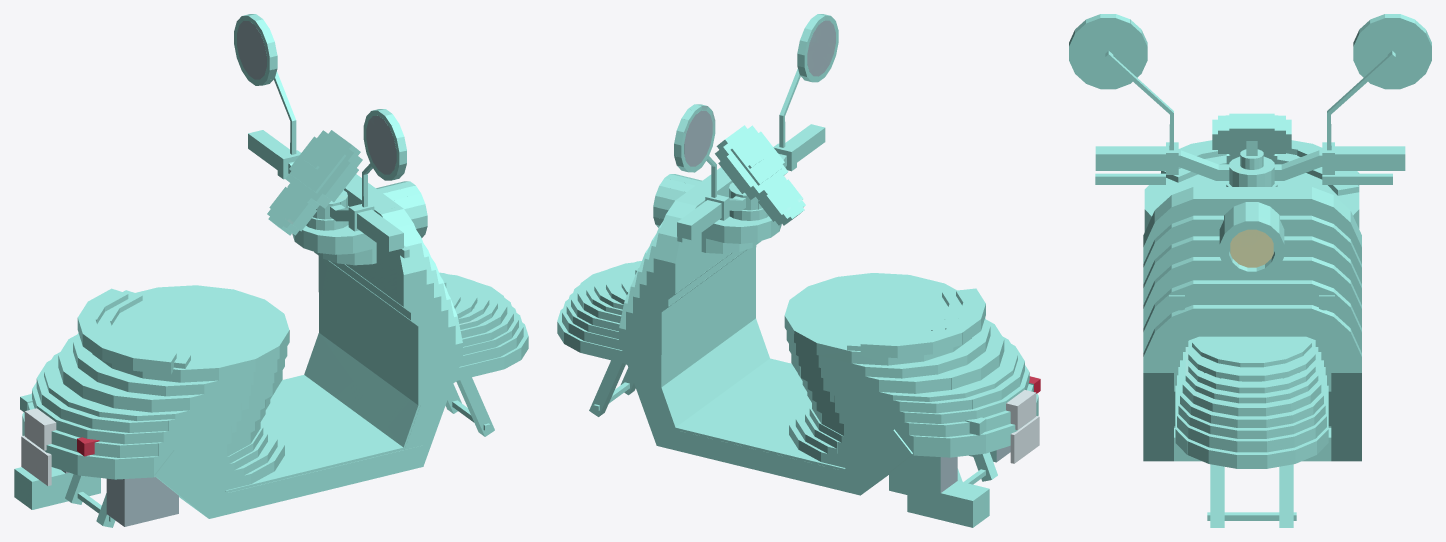
The model's file is vino.obj.
The picture shows the model from 3 angles, left to right: view 1: azimuth 30°, elevation 25°; view 2: azimuth 150°, elevation 25°; view 3: azimuth 270°, elevation 25°; orthographic projection. The views are drawn at different scales.
Parts seen in each view (by area): view 1: cube.004; view 2: cube.004; view 3: cube.004.
Boxes of the visible parts, x1=… form: cube.004: x1=14, y1=14, x2=528, y2=527; cube.004: x1=557, y1=14, x2=1040, y2=527; cube.004: x1=1069, y1=14, x2=1431, y2=527.
Size of the model in its own units: 8.88 by 6.94 by 5.26.
1 material, 1 textured.
